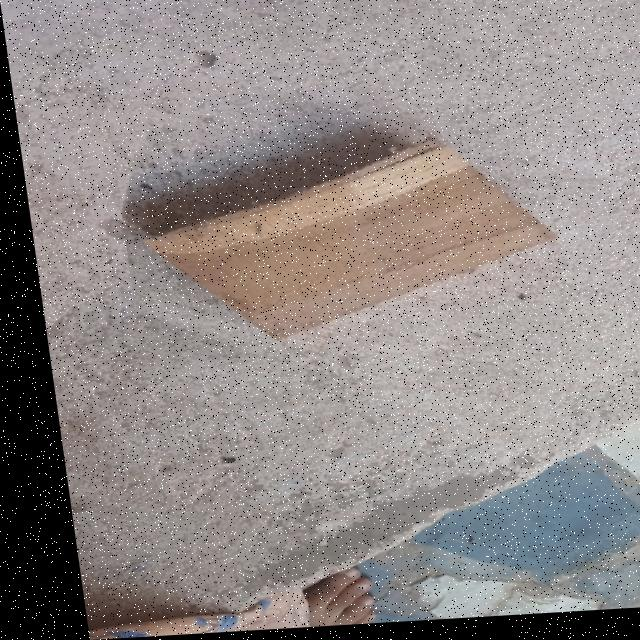wood: (103, 82, 614, 450)
